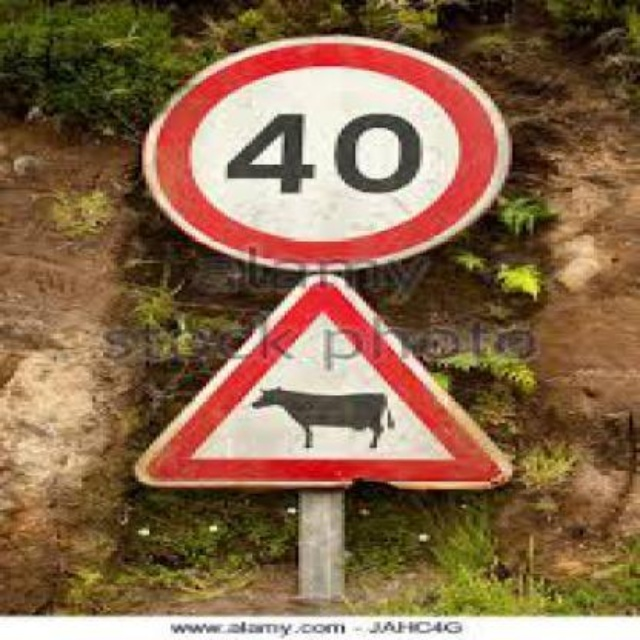Tốc độ tối đa cho phép 10km/h: (150, 40, 496, 264)
